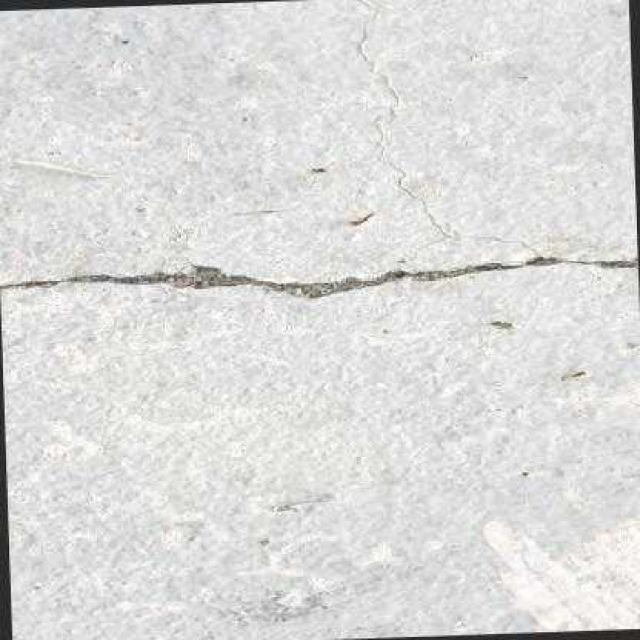D00: (0, 252, 633, 300)
